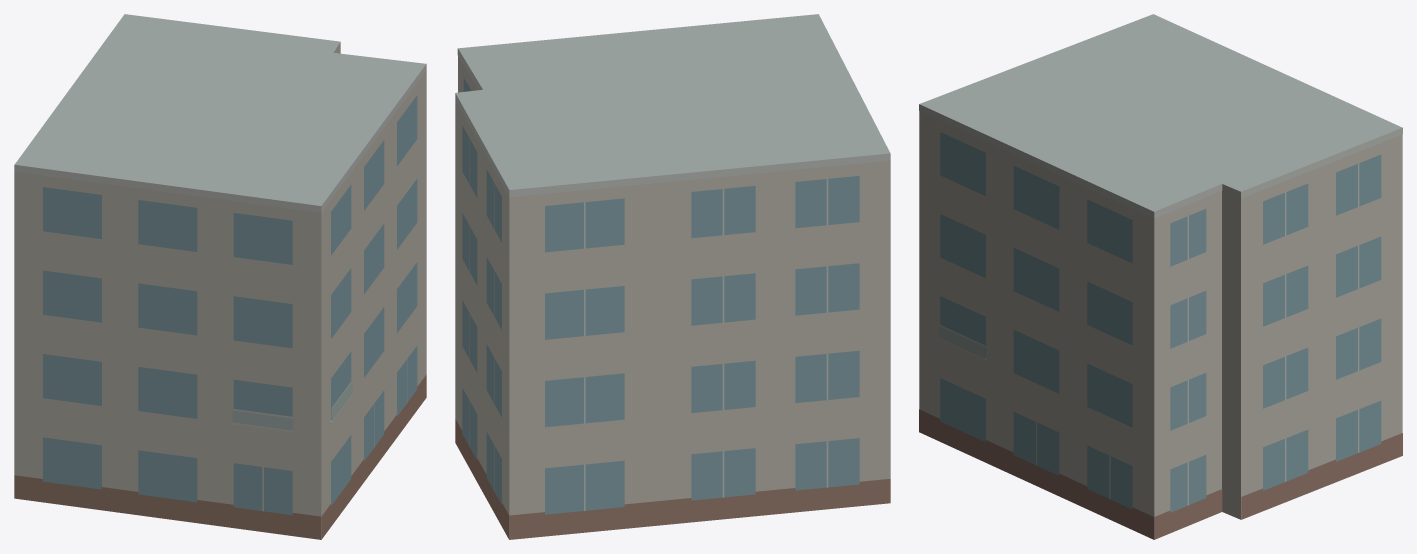
Rendered from survey-upis-33025391.glb.
3 renders of one model, left to right at view 1: azimuth 30°, elevation 25°; view 2: azimuth 150°, elevation 25°; view 3: azimuth 270°, elevation 25°, orthographic. The views are drawn at different scales.
Visible parts, largest first — view 1: survey-upis-33025391.tmp; view 2: survey-upis-33025391.tmp; view 3: survey-upis-33025391.tmp.
Part boxes in pixels (bbox=[...]): survey-upis-33025391.tmp: bbox=[14, 14, 426, 539]; survey-upis-33025391.tmp: bbox=[455, 14, 890, 539]; survey-upis-33025391.tmp: bbox=[919, 14, 1402, 539].
Size of the model in its own units: 15.27 by 11.8 by 15.77.
